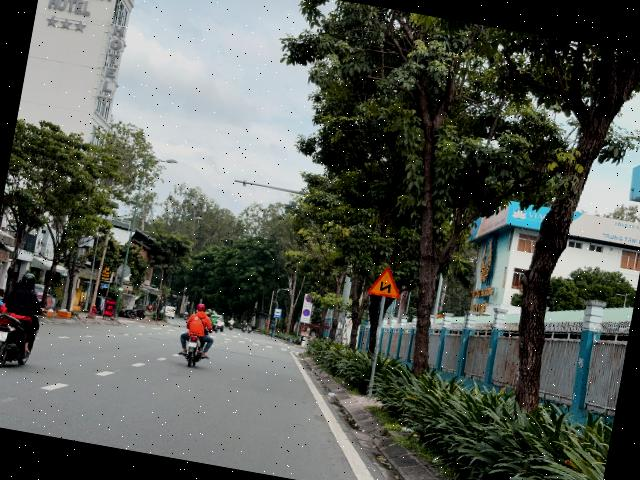nhieu-cho-ngoat-nguy-hiem-lien-tiep: (366, 264, 404, 299)
